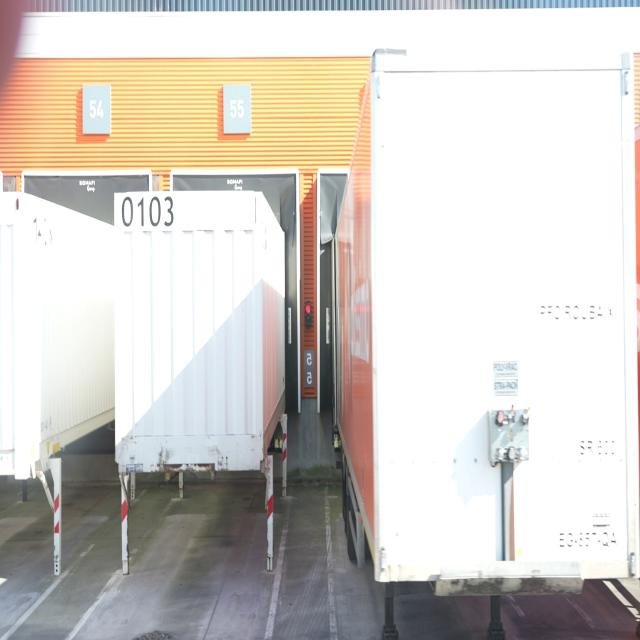Code: (119, 192, 174, 234)
